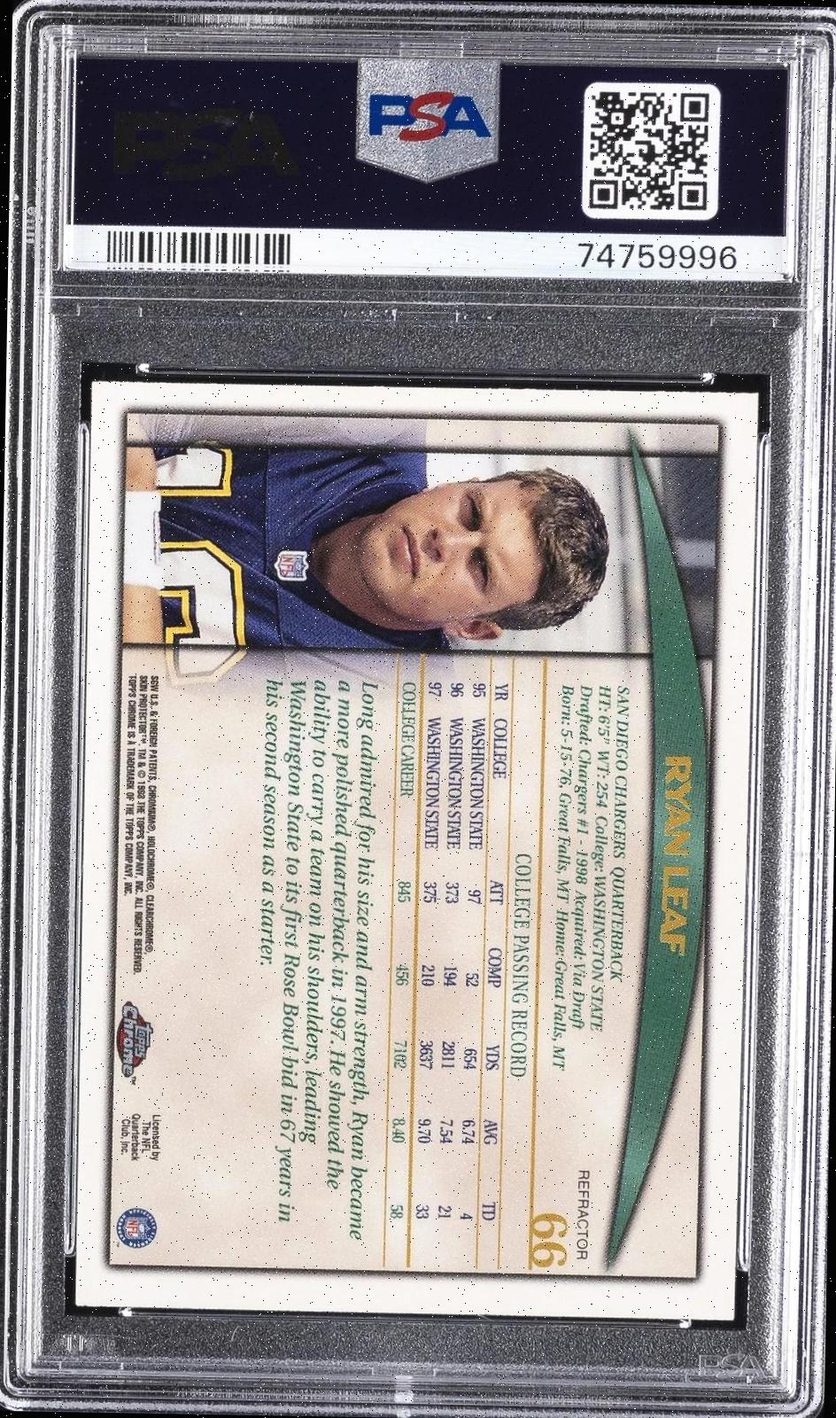card-2UtV: (73, 380, 760, 1322)
